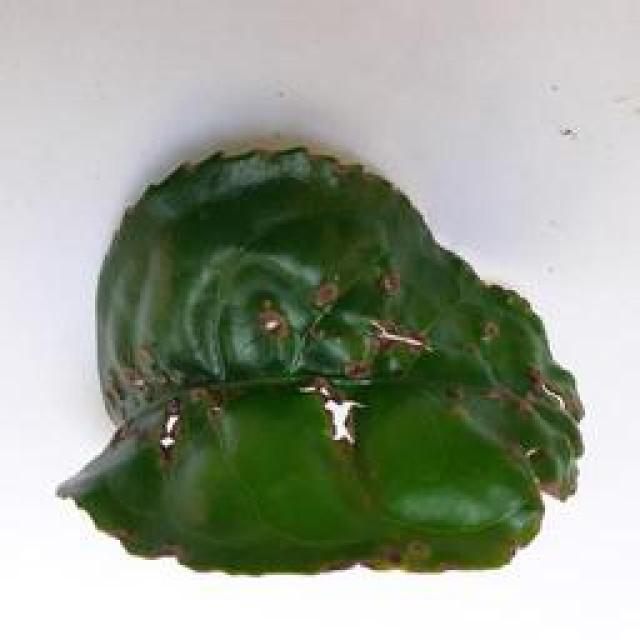Helopeltis: (42, 134, 586, 580)
